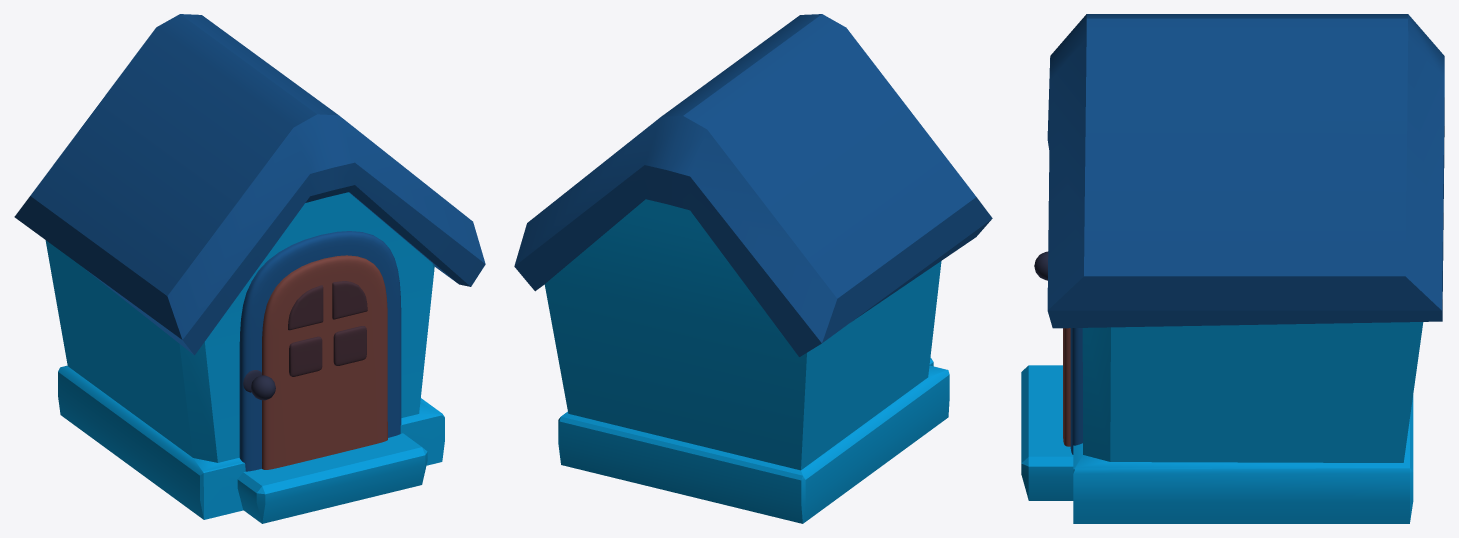
Rendered from birdhouse03.fbx.
3 renders of one model, left to right at view 1: azimuth 30°, elevation 25°; view 2: azimuth 150°, elevation 25°; view 3: azimuth 270°, elevation 25°, orthographic. The views are drawn at different scales.
Visible parts, largest first — view 1: House; view 2: House; view 3: House.
Part boxes in pixels (x1,y1,x2,y2): House: (14,14,485,523); House: (514,14,992,523); House: (1021,14,1444,523).
Size of the model in its own units: 97.39 by 95.35 by 111.
